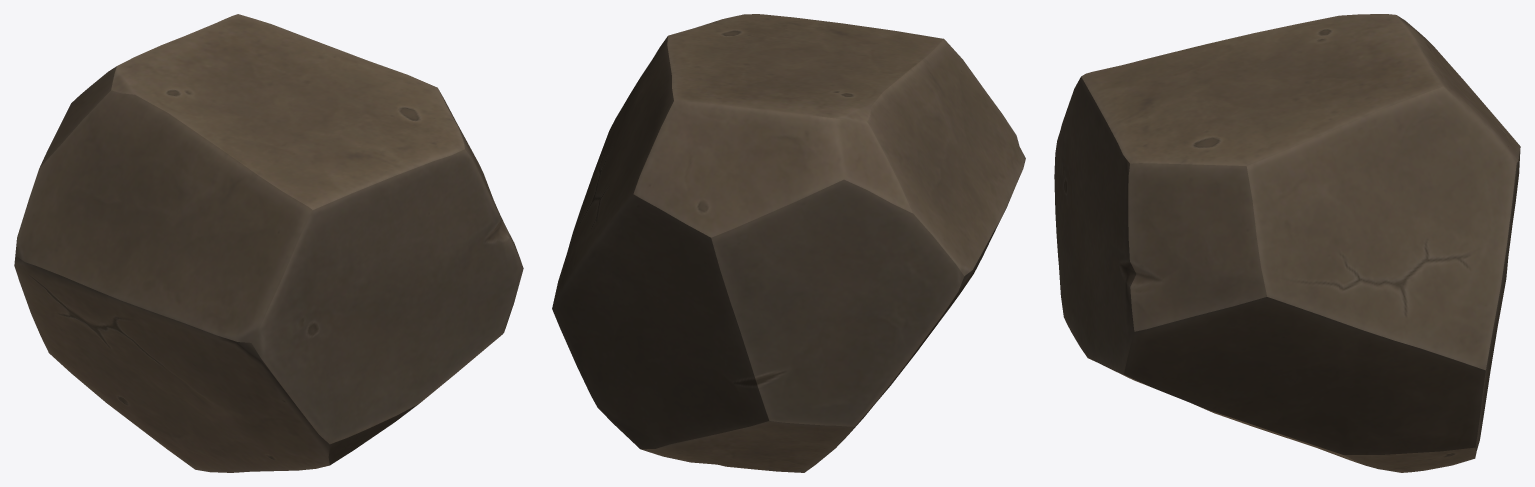
Rendered from ST_Stone2.fbx.
3 renders of one model, left to right at view 1: azimuth 30°, elevation 25°; view 2: azimuth 150°, elevation 25°; view 3: azimuth 270°, elevation 25°, orthographic. The views are drawn at different scales.
Visible parts, largest first — view 1: ST_Stone2; view 2: ST_Stone2; view 3: ST_Stone2.
Part boxes in pixels (left/top/right/bottom): ST_Stone2: left=14, top=14, right=523, bottom=472; ST_Stone2: left=552, top=14, right=1025, bottom=472; ST_Stone2: left=1054, top=14, right=1520, bottom=472.
Bounding box in the file's own units: 145 × 134 × 138.
